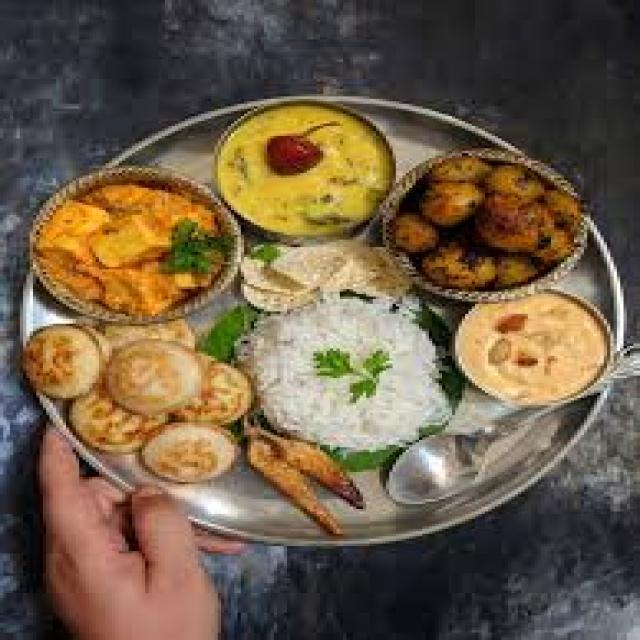dal: (203, 99, 398, 243)
papad: (240, 232, 418, 312)
rice: (236, 296, 466, 453)
veg-fry: (384, 143, 594, 300), (444, 280, 624, 418)
